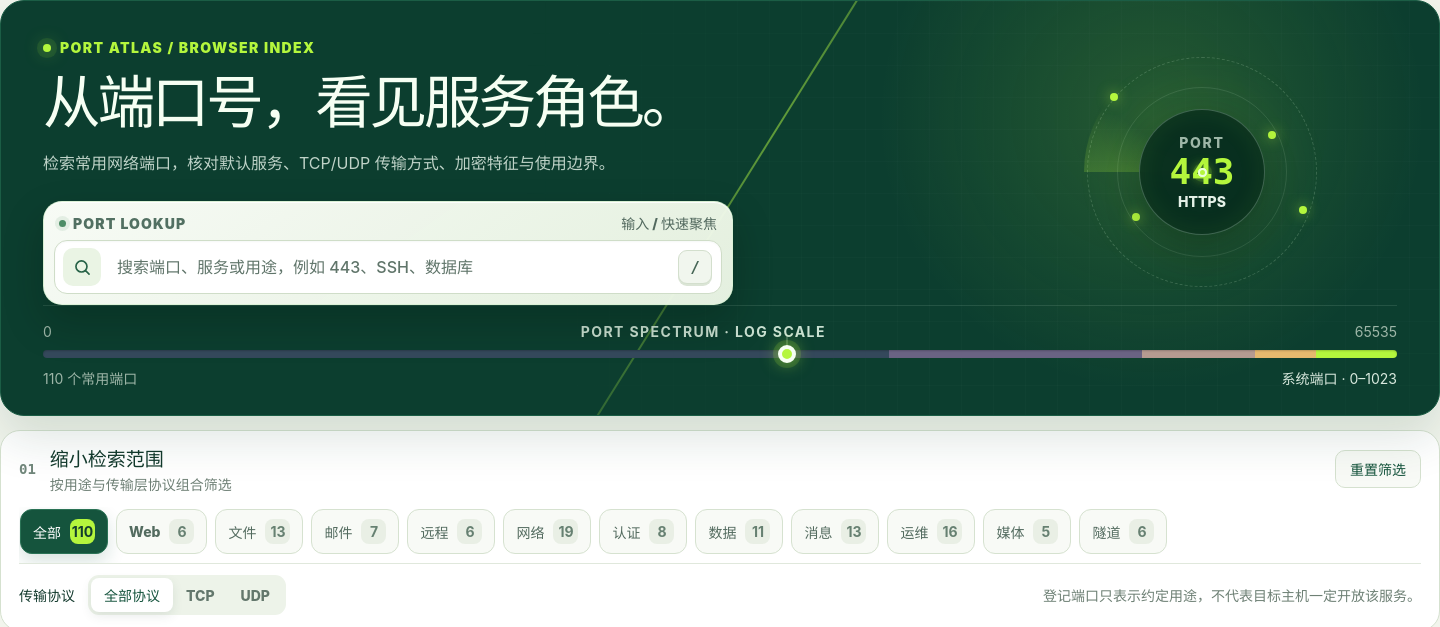
Scenario: CommonPortsTool › composes category and UDP filters and exposes an empty-state recovery
The width and height of the screenshot is (1440, 627).
Click the button "邮件 7". click: (356, 532)
box: [312,509,400,554]
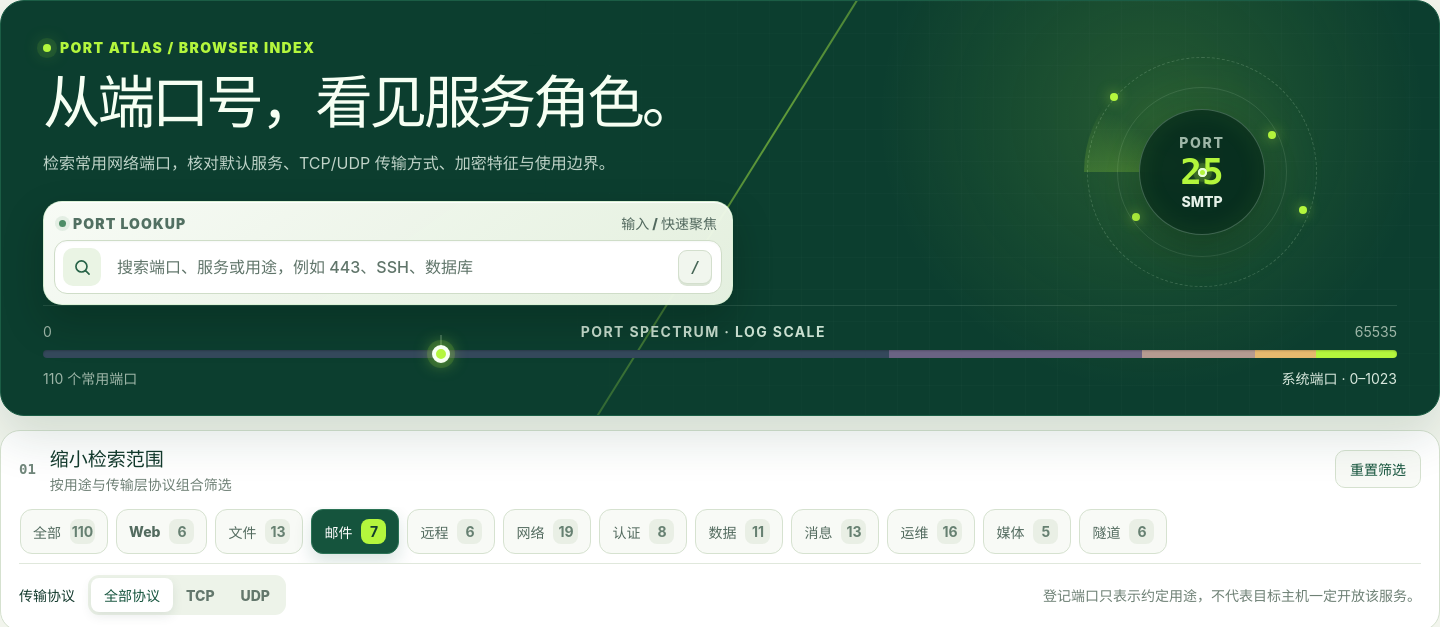
Click the button "UDP". click: (255, 595)
box: [228,578,283,612]
(page scrolled)
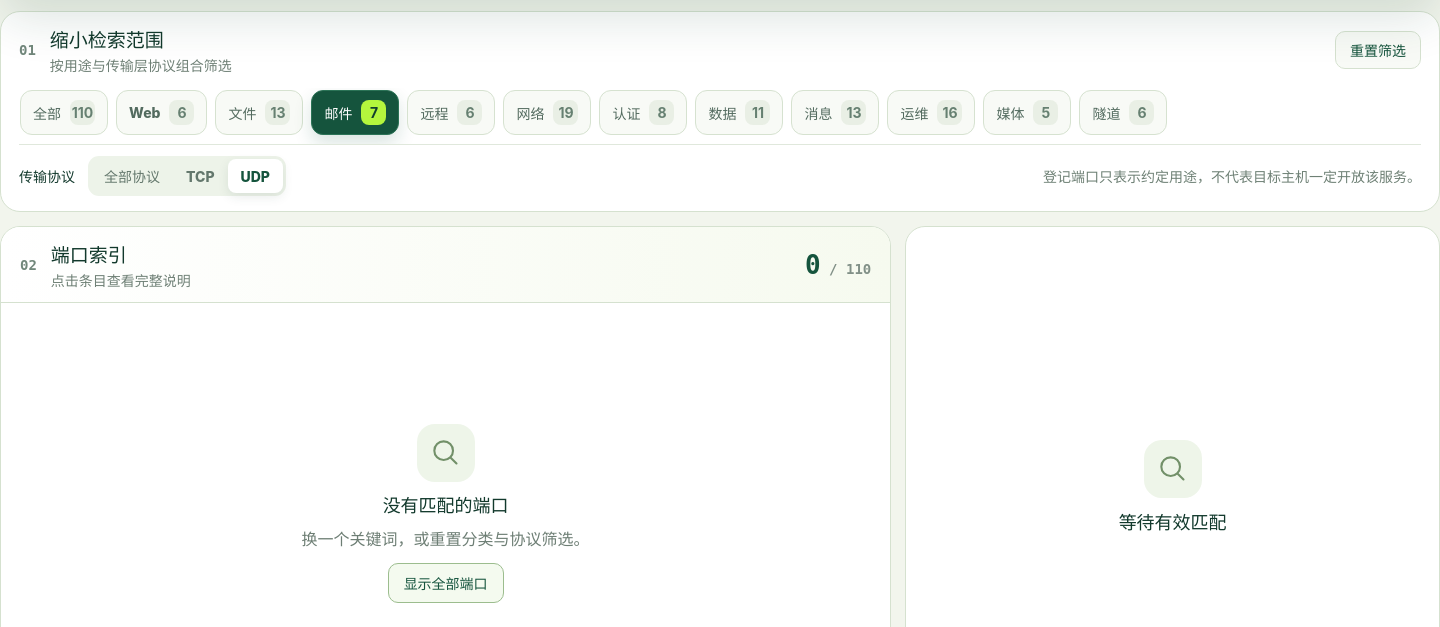
Check: the text "没有匹配的端口" is shown, box [383,491,509,517]
Click the button "显示全部端口". click: (446, 583)
box: [388,563,504,603]
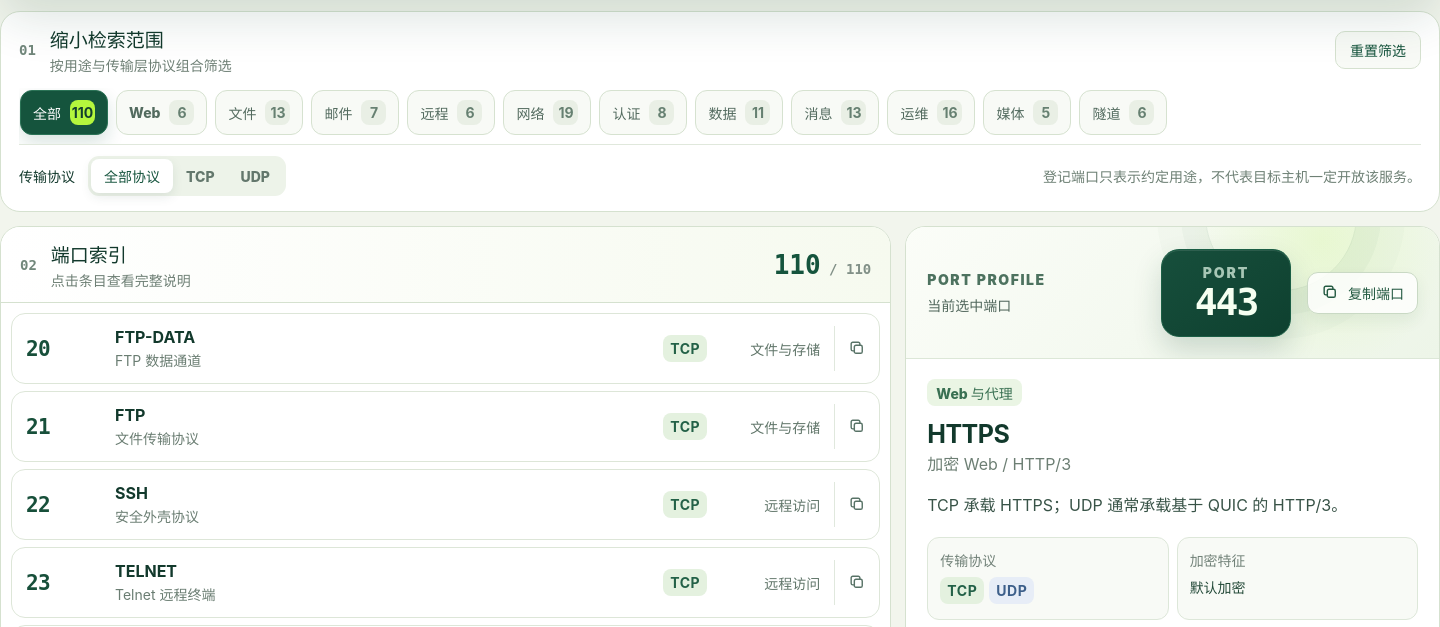
Check: the heading "HTTPS" is shown, box [927,419,1009,449]
